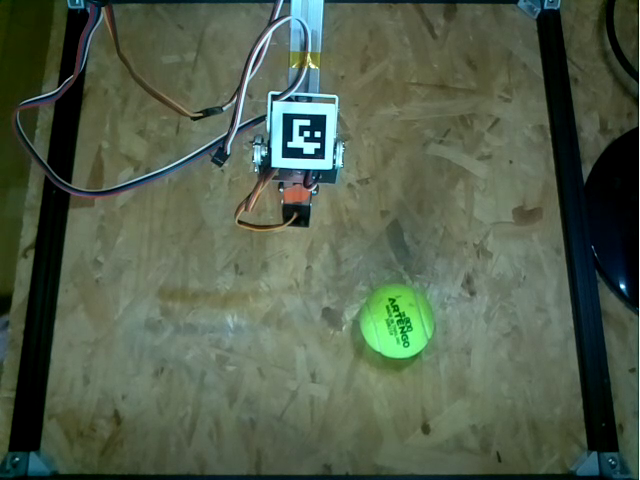tennis_ball: (358, 283, 438, 360)
